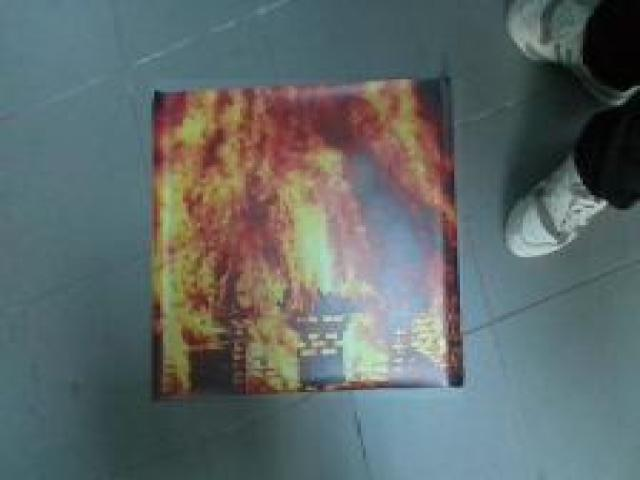fire-poster: (146, 75, 466, 401)
